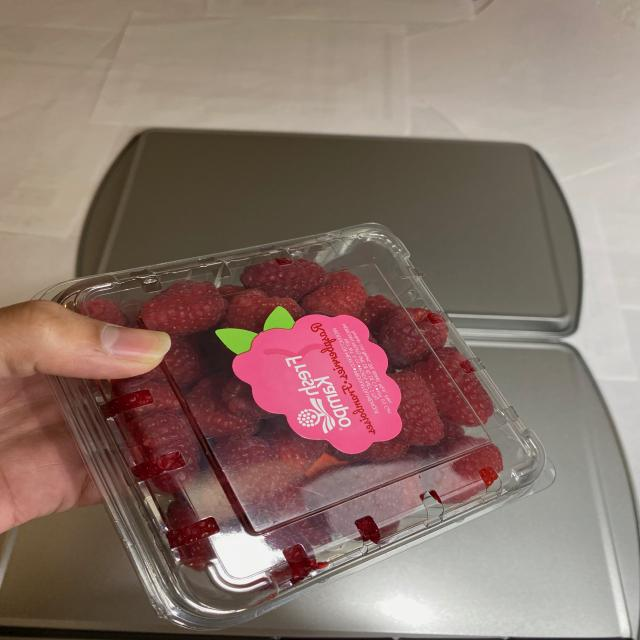raspberries: (70, 254, 498, 548)
